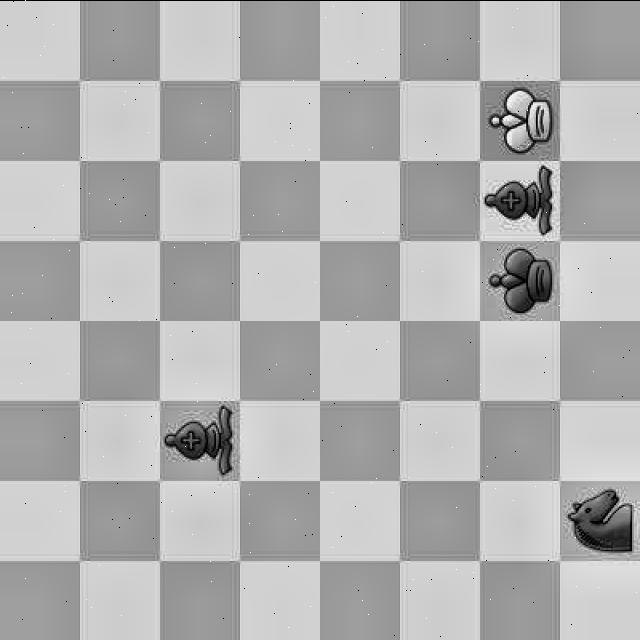Black Knight: (560, 480, 640, 562)
black bishop: (157, 400, 235, 482), (485, 167, 557, 237)
black king: (482, 242, 554, 320)
white king: (477, 80, 559, 164)
